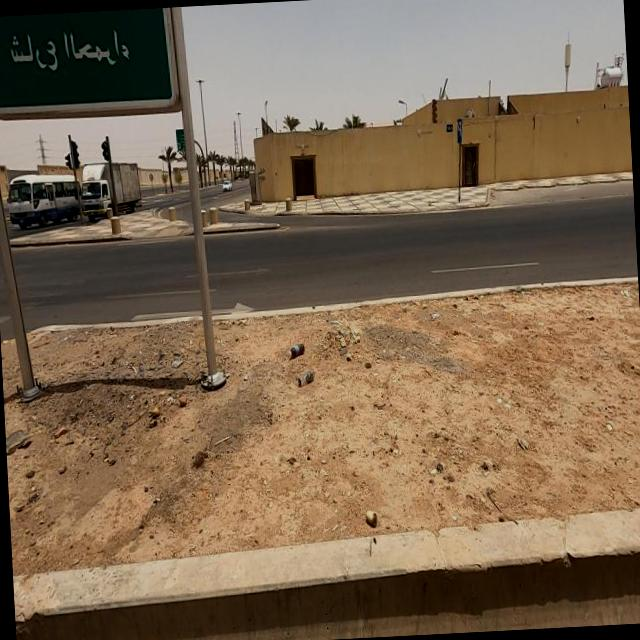debris: (249, 288, 365, 454), (102, 348, 238, 473), (336, 454, 410, 572)
